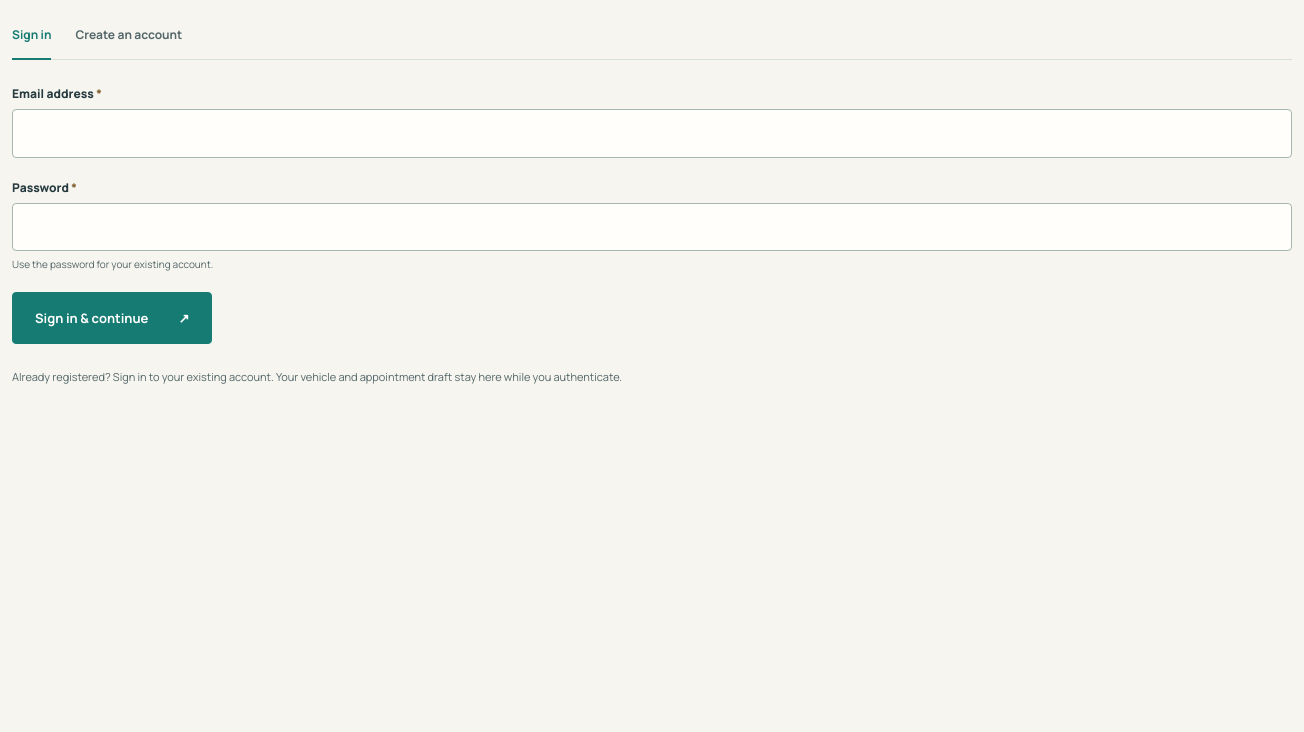
Test case: keeps duplicate-email errors actionable without logging in or replacing an existing account
Click the button "Create an account": (129, 36) [75, 12, 182, 60]
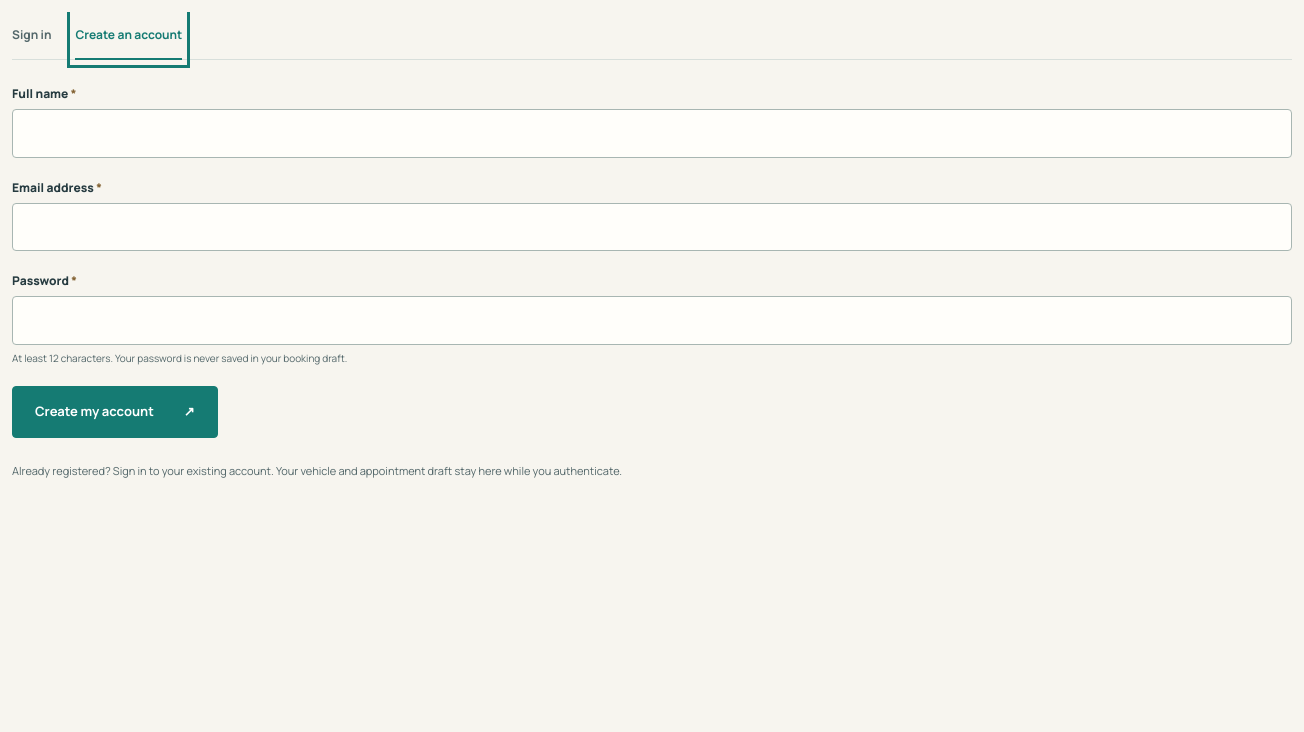
In the field labelled "Full name *": (652, 133) [12, 109, 1292, 158], type "Test Customer"
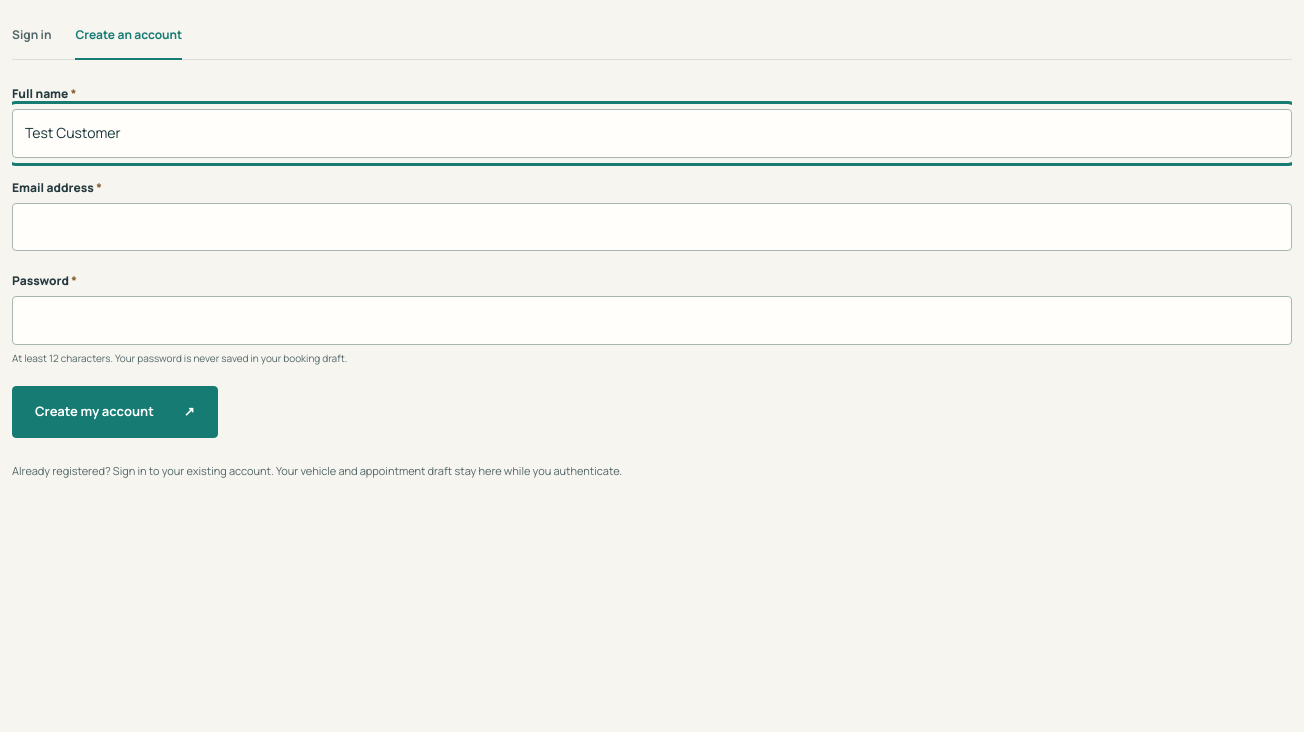
In the field labelled "Email address *": (652, 227) [12, 203, 1292, 251], type "customer@example.test"
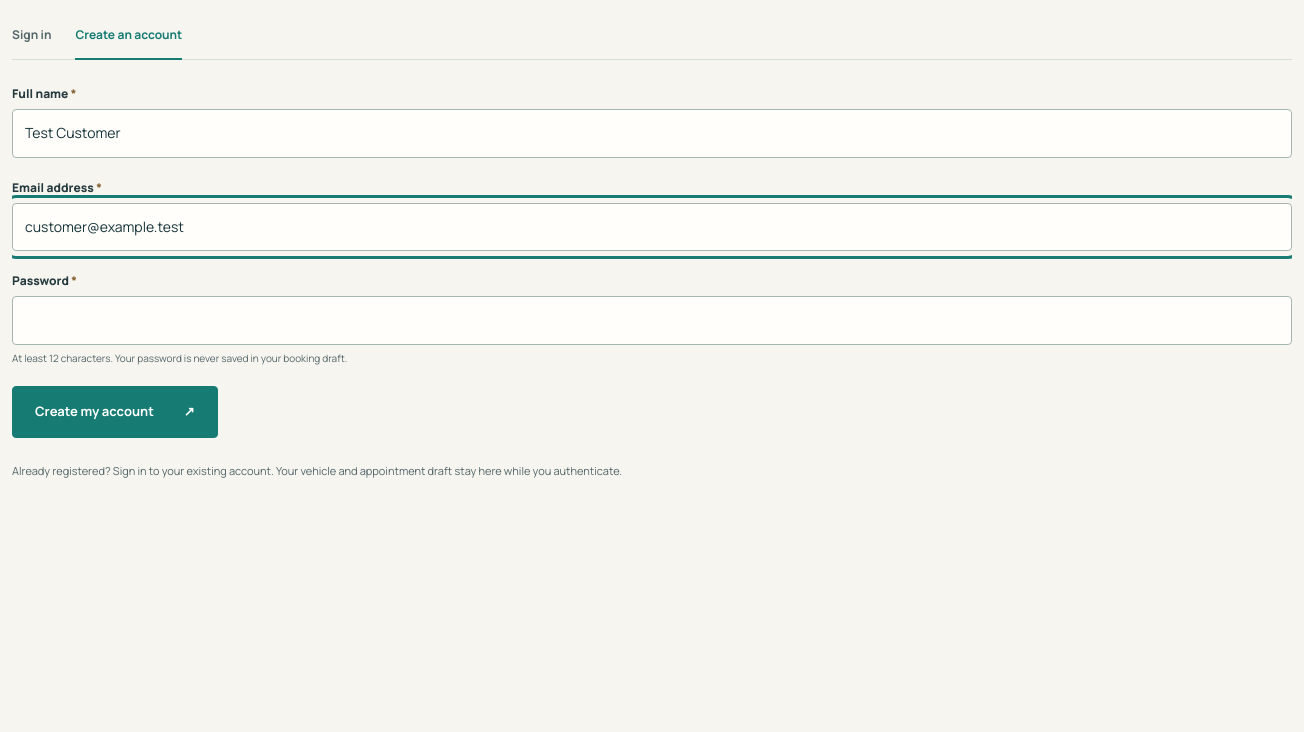
In the password field labelled "Password *": (652, 320) [12, 296, 1292, 345], type "Test-Password-123!"
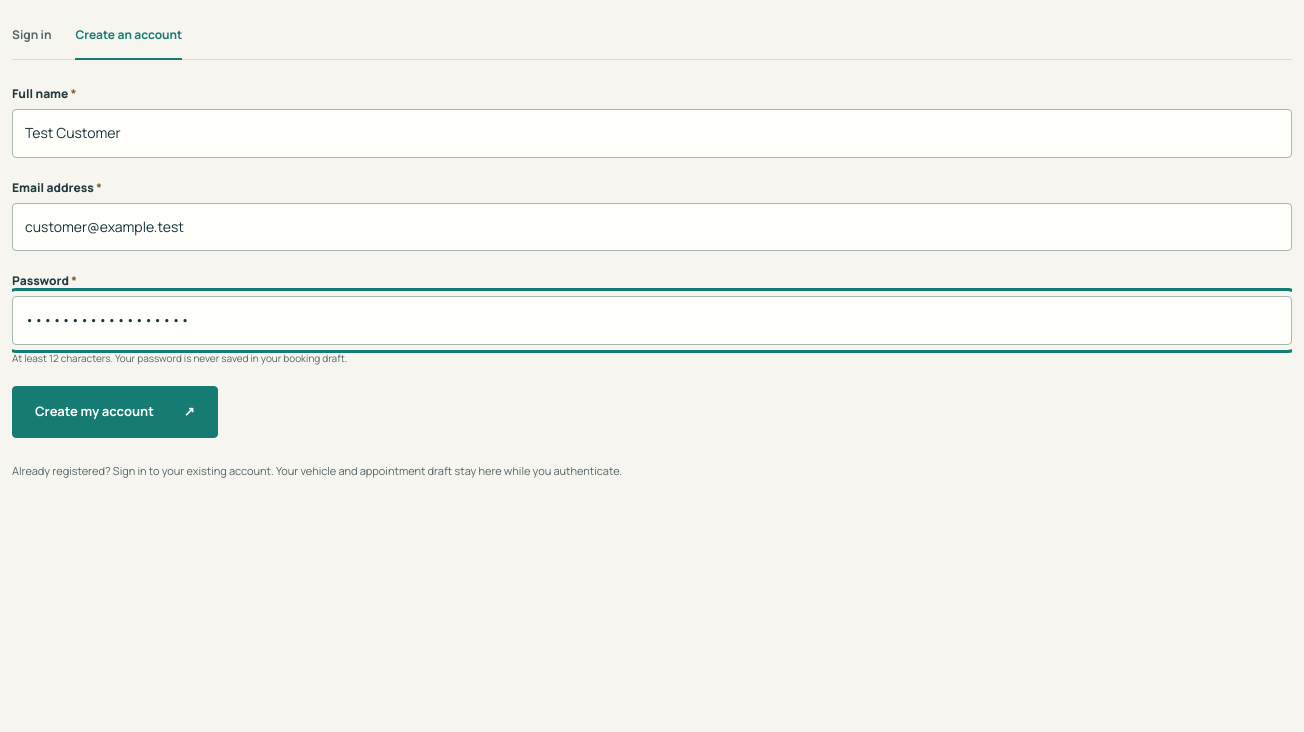
Click the button "Create my account ↗": (115, 412) [12, 386, 218, 438]
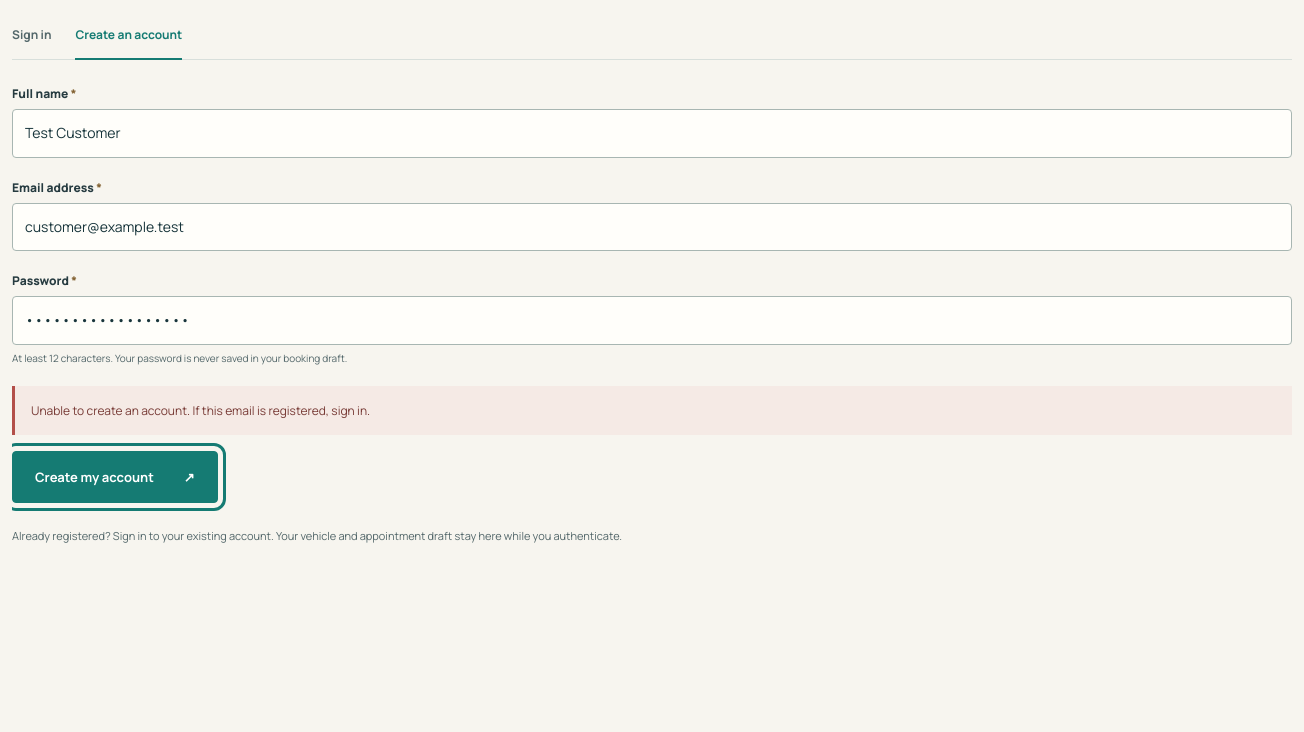
Expected: the message shows "sign in", [31, 402, 370, 419]
